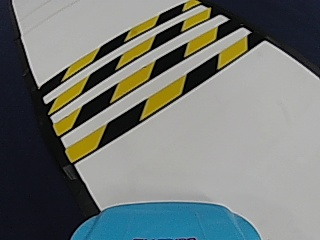bump: (51, 15, 201, 119)
